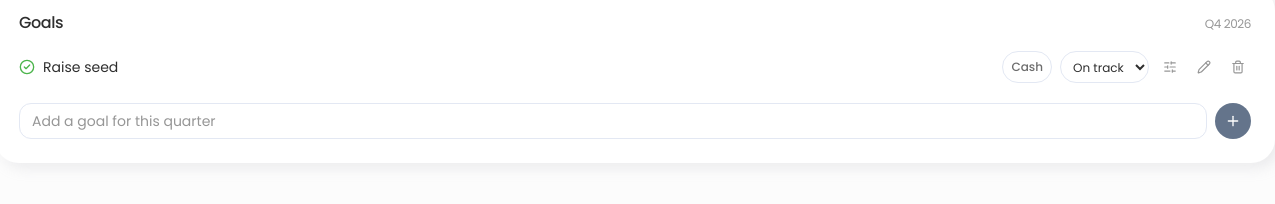
GoalsPanel › the removal can be backed out of
The width and height of the screenshot is (1275, 204).
Click the button named "Remove Raise seed": x=1238, y=67 top-left (1225, 54), bottom-right (1251, 80)
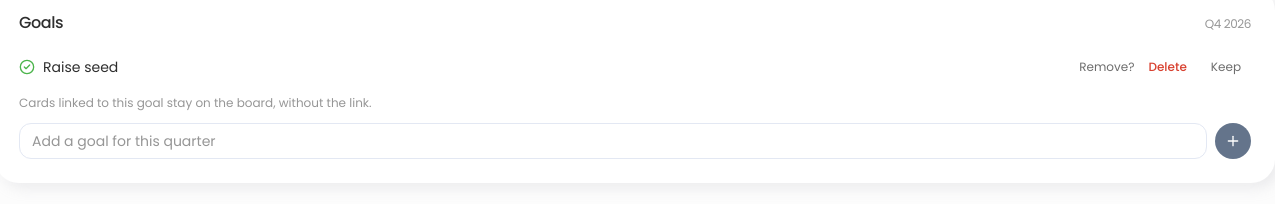
Click the button "Keep": x=1226, y=67 top-left (1201, 55), bottom-right (1251, 79)
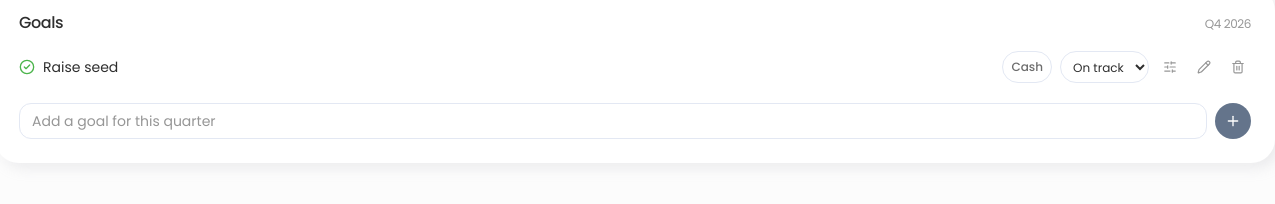
Expected: the button named "Remove Raise seed" is shown, top-left (1225, 54), bottom-right (1251, 80)
